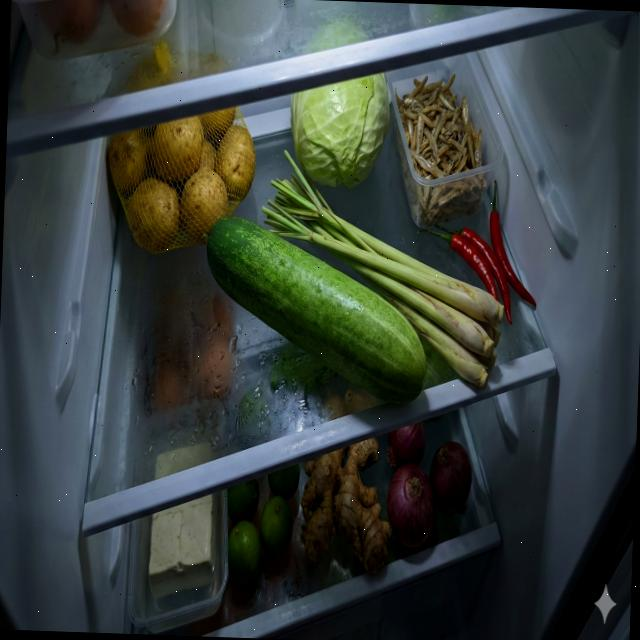anchovies: (390, 69, 490, 227)
cabbage: (286, 68, 391, 190)
chili: (414, 176, 541, 326)
cucumber: (201, 214, 432, 405)
ginger: (298, 432, 395, 576)
lemongrass: (254, 147, 510, 392)
lime: (223, 460, 300, 582)
onion: (383, 420, 474, 550)
potato: (104, 101, 258, 258)
tofu: (148, 491, 219, 601)
